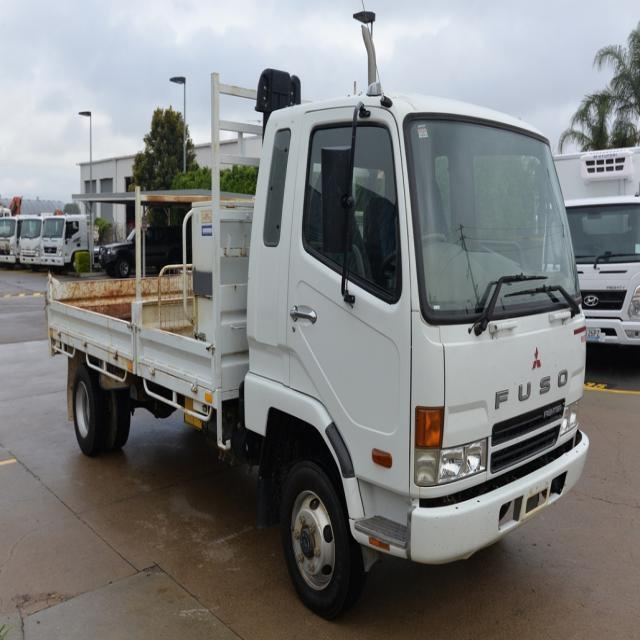Truck: (45, 69, 588, 606)
